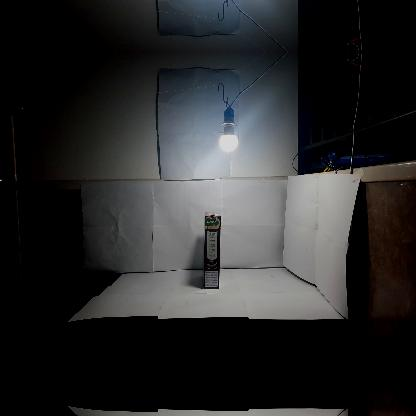Koko-Krunch: (204, 211, 220, 288)
